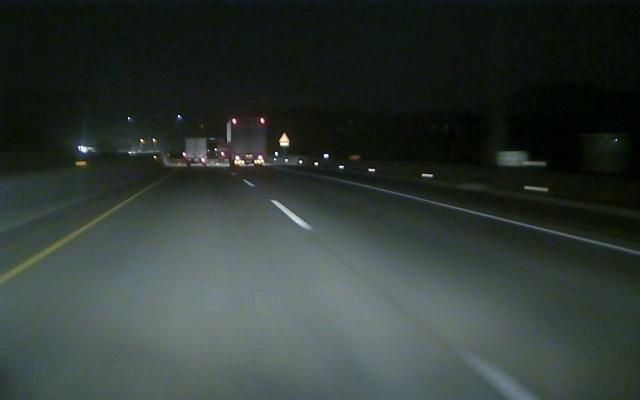lane: (245, 181, 544, 400), (342, 181, 638, 256), (0, 187, 153, 286)
